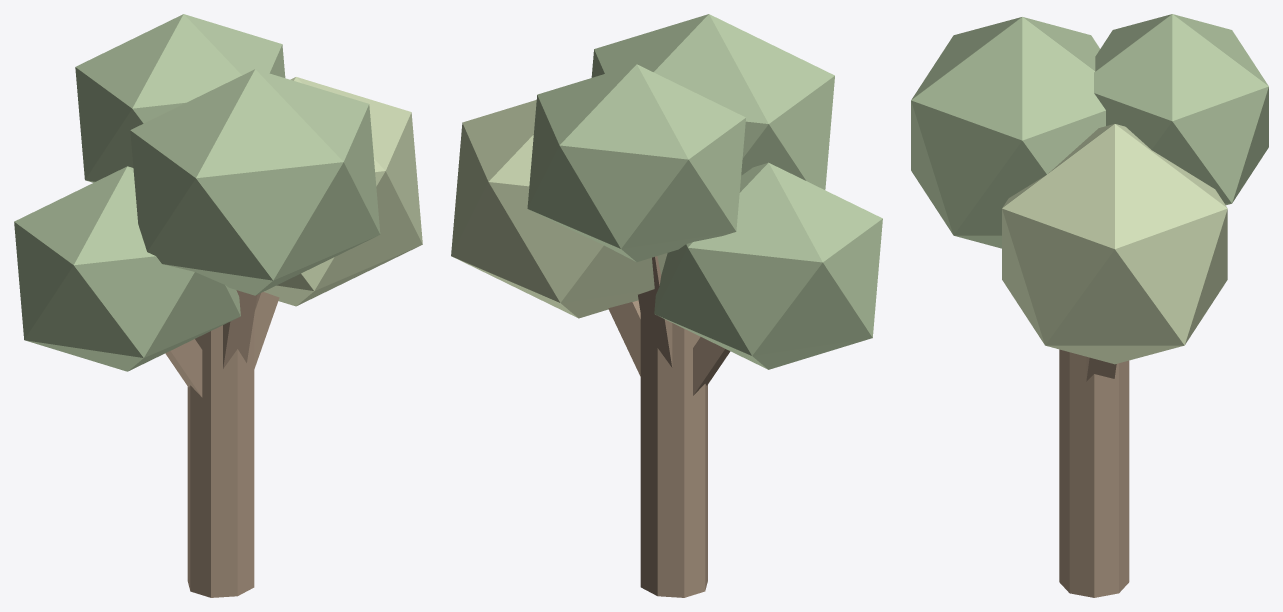
File: tree-faceted.glb
The picture shows the model from 3 angles, left to right: view 1: azimuth 30°, elevation 25°; view 2: azimuth 150°, elevation 25°; view 3: azimuth 270°, elevation 25°; orthographic projection. The views are drawn at different scales.
Visible parts, largest first — view 1: Canopy.002, Canopy, Canopy.003, Trunk, Canopy.001, Branch.002, Branch, Branch.001; view 2: Canopy.003, Canopy, Canopy.001, Canopy.002, Trunk, Branch.003, Branch.001, Branch; view 3: Canopy.001, Canopy.002, Canopy.003, Trunk, Branch.001.
Boxes of the visible parts, x1=… form: Canopy.002: x1=130, y1=69, x2=380, y2=295; Canopy: x1=14, y1=166, x2=240, y2=371; Canopy.003: x1=75, y1=14, x2=285, y2=182; Trunk: x1=187, y1=316, x2=254, y2=597; Canopy.001: x1=264, y1=77, x2=422, y2=306; Branch.002: x1=223, y1=290, x2=257, y2=368; Branch: x1=165, y1=339, x2=202, y2=397; Branch.001: x1=254, y1=292, x2=279, y2=368; Canopy.003: x1=527, y1=64, x2=745, y2=261; Canopy: x1=654, y1=162, x2=882, y2=369; Canopy.001: x1=451, y1=100, x2=667, y2=318; Canopy.002: x1=591, y1=14, x2=834, y2=189; Trunk: x1=640, y1=314, x2=707, y2=597; Branch.003: x1=638, y1=256, x2=672, y2=367; Branch.001: x1=608, y1=300, x2=640, y2=376; Branch: x1=693, y1=337, x2=730, y2=395; Canopy.001: x1=1002, y1=124, x2=1227, y2=364; Canopy.002: x1=911, y1=17, x2=1105, y2=248; Canopy.003: x1=1094, y1=14, x2=1268, y2=205; Trunk: x1=1059, y1=349, x2=1129, y2=597; Branch.001: x1=1086, y1=356, x2=1116, y2=381.
Size of the model in its own units: 2.34 by 3.05 by 1.74.
